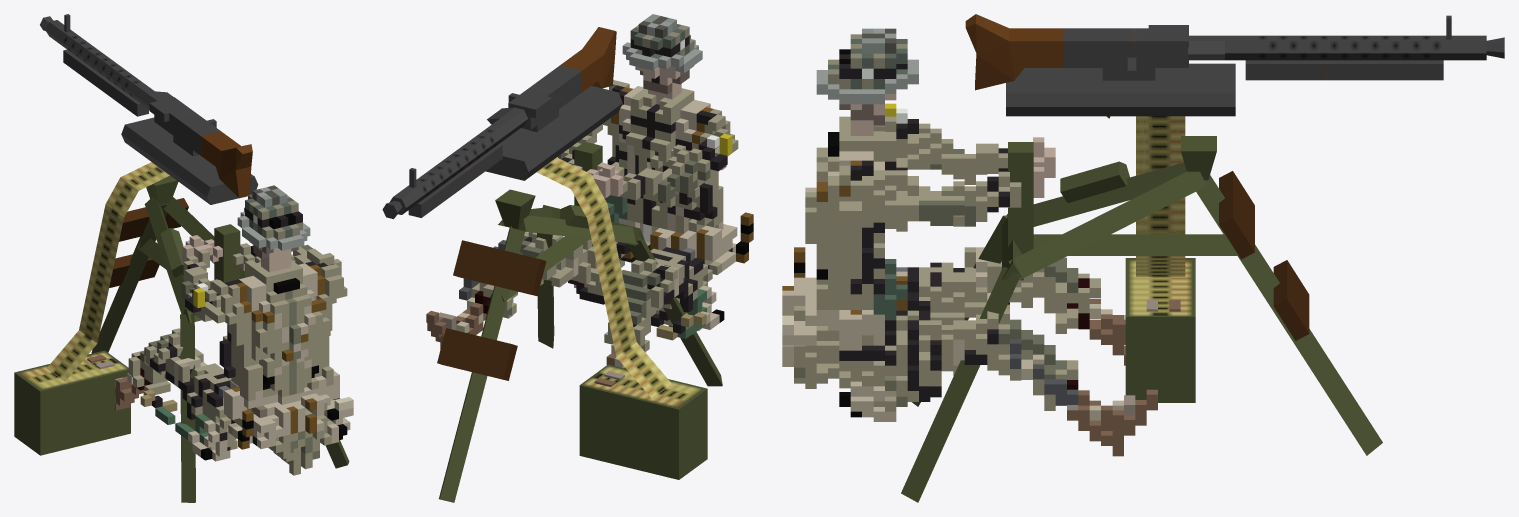
File: mg34_hmg.glb
3 renders of one model, left to right at view 1: azimuth 30°, elevation 25°; view 2: azimuth 150°, elevation 25°; view 3: azimuth 270°, elevation 25°, orthographic. The views are drawn at different scales.
Parts seen in each view (by area): view 1: crew_soldier_SLOT_00_GUNNER, 00_chassis_lafette_tripod.mesh, weapon_turret_0_mg34_hmg.mesh; view 2: crew_soldier_SLOT_00_GUNNER, 00_chassis_lafette_tripod.mesh, weapon_turret_0_mg34_hmg.mesh; view 3: crew_soldier_SLOT_00_GUNNER, 00_chassis_lafette_tripod.mesh, weapon_turret_0_mg34_hmg.mesh.
Boxes of the visible parts, x1,y1,x2,y2 form: crew_soldier_SLOT_00_GUNNER: (87,185,353,475); 00_chassis_lafette_tripod.mesh: (14,162,349,502); weapon_turret_0_mg34_hmg.mesh: (40,14,258,204); crew_soldier_SLOT_00_GUNNER: (426,14,753,386); 00_chassis_lafette_tripod.mesh: (437,141,722,502); weapon_turret_0_mg34_hmg.mesh: (382,27,622,219); crew_soldier_SLOT_00_GUNNER: (782,28,1180,456); 00_chassis_lafette_tripod.mesh: (901,116,1382,502); weapon_turret_0_mg34_hmg.mesh: (965,14,1504,118).
Size of the model in its own units: 1.07 by 1.32 by 1.98.
37 materials, 1 textured.
